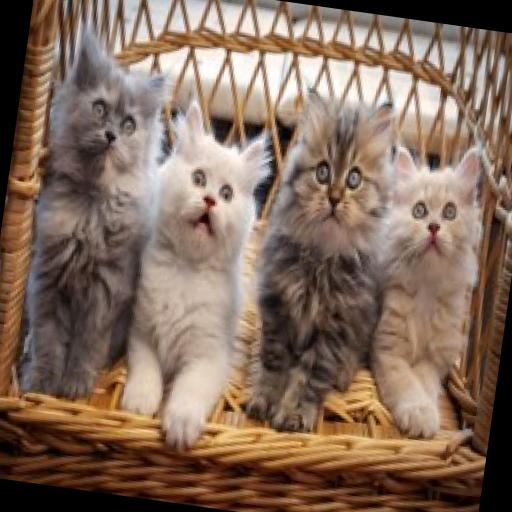cat: (8, 24, 180, 406), (112, 87, 282, 457), (240, 80, 410, 446), (345, 134, 512, 456)
